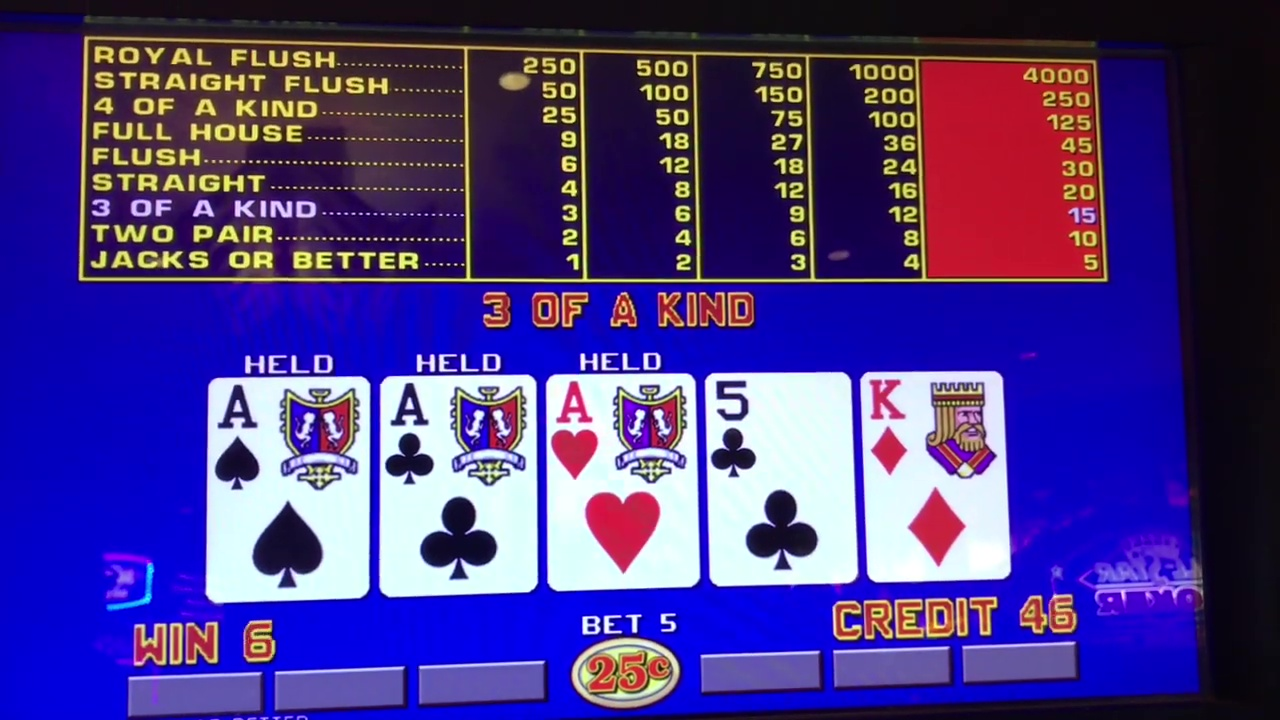C5: (715, 371, 842, 586)
CA: (386, 375, 541, 590)
DK: (872, 372, 1002, 577)
HA: (551, 376, 698, 586)
SA: (203, 379, 355, 595)
